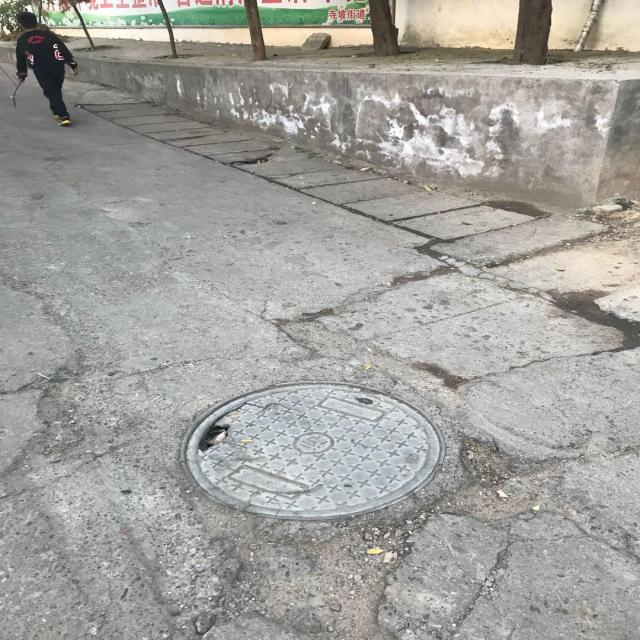cracks: (0, 252, 503, 421)
manhole-cover: (182, 383, 450, 514)
